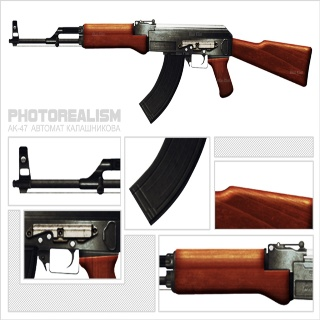rifle: (7, 16, 312, 126)
